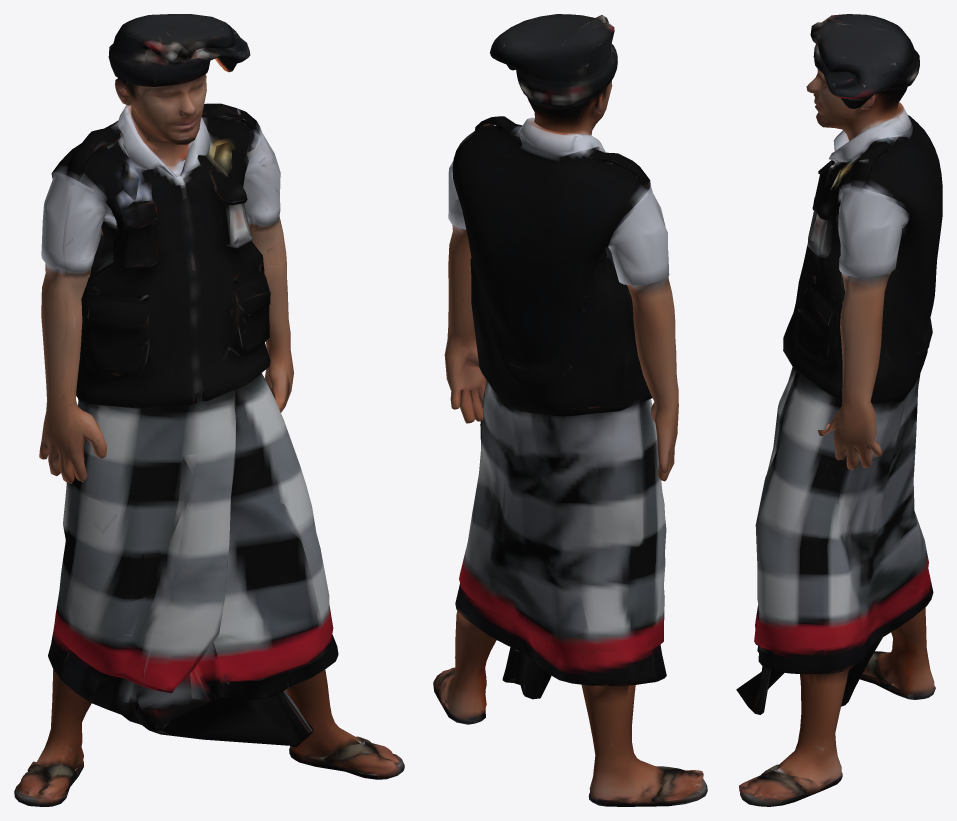
Rendered from pecalang_idle.glb.
3 views of the same model, side by side, from view 1: azimuth 30°, elevation 25°; view 2: azimuth 150°, elevation 25°; view 3: azimuth 270°, elevation 25° (orthographic). The views are drawn at different scales.
Visible parts, largest first — view 1: tripo_node_101afab6; view 2: tripo_node_101afab6; view 3: tripo_node_101afab6.
Boxes of the visible parts, x1,y1,x2,y2 form: tripo_node_101afab6: (14,14,404,806); tripo_node_101afab6: (433,14,707,806); tripo_node_101afab6: (736,14,942,806).
Bounding box in the file's own units: 45.38 × 99.18 × 26.53.
1 material, 1 textured.
